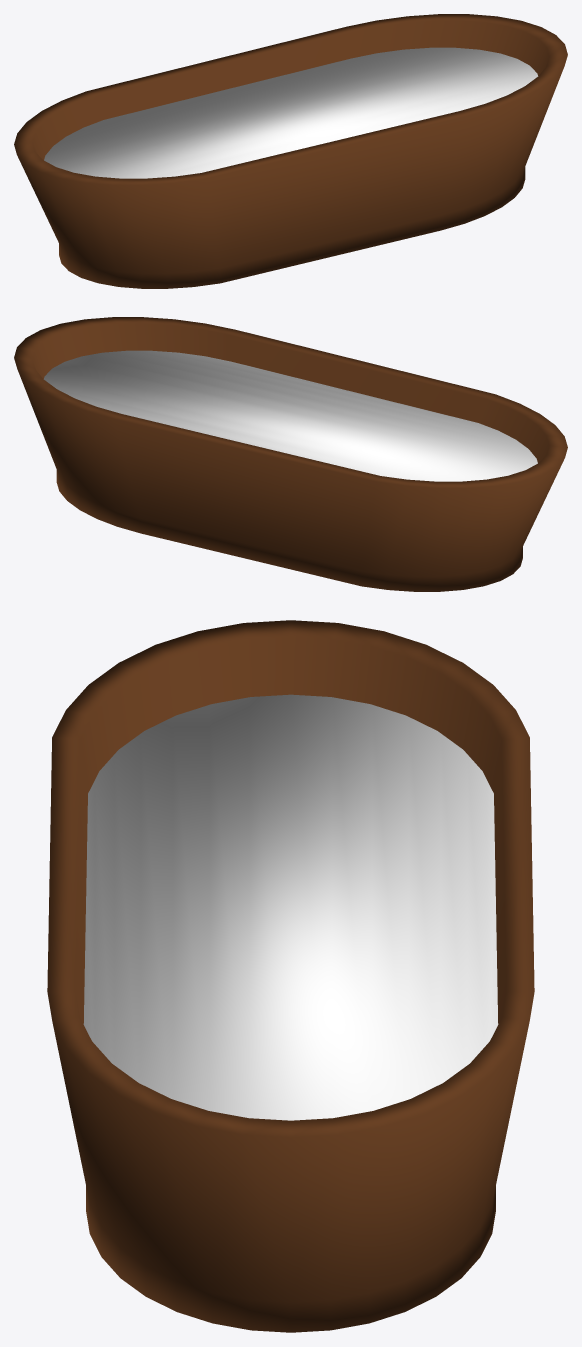
The model's file is Tank.glb.
The picture shows the model from 3 angles, top to bottom: view 1: azimuth 30°, elevation 25°; view 2: azimuth 150°, elevation 25°; view 3: azimuth 270°, elevation 25°; orthographic projection. The views are drawn at different scales.
Parts seen in each view (by area): view 1: Tank; view 2: Tank; view 3: Tank.
Boxes of the visible parts, bbox=[...] form: Tank: bbox=[14, 14, 567, 288]; Tank: bbox=[14, 317, 567, 591]; Tank: bbox=[47, 620, 534, 1332].
Bounding box in the file's own units: 2.14 × 0.4534 × 0.8521.
